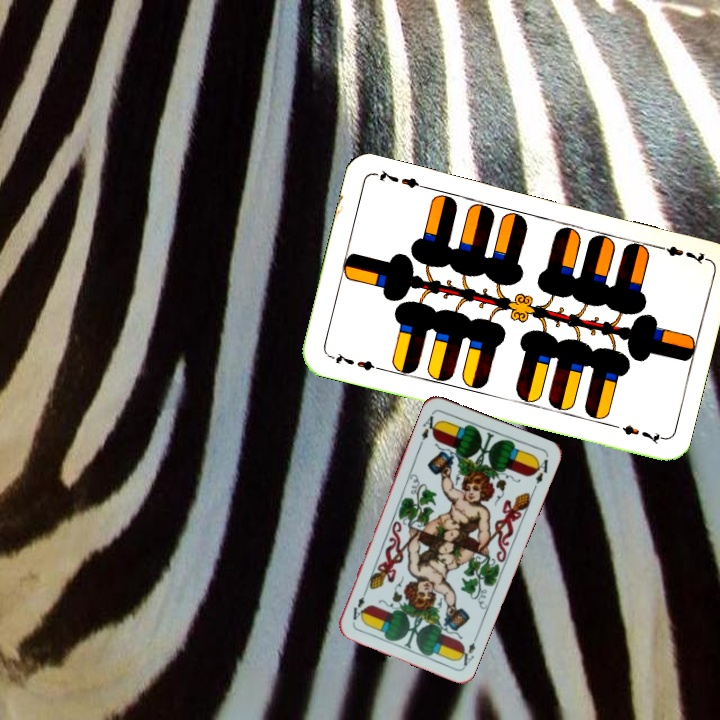E7: (325, 348, 383, 374), (651, 241, 709, 266)
EA: (416, 409, 441, 448), (454, 638, 478, 669)
